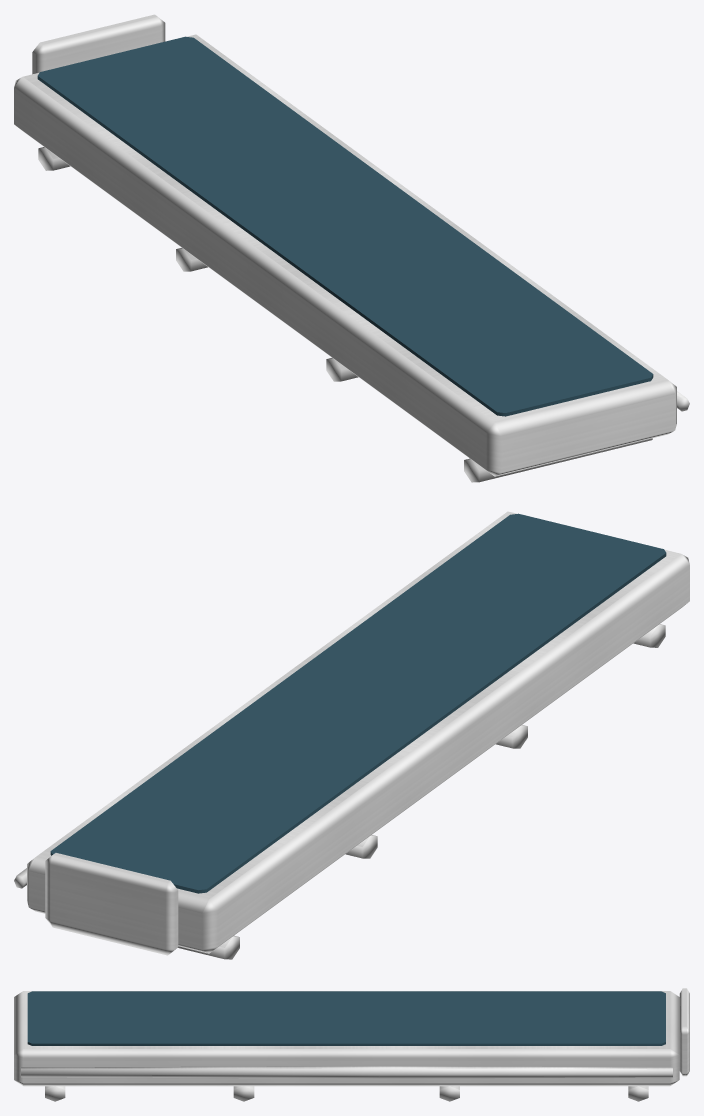
File: hydroponics.obj
3 renders of one model, top to bottom at view 1: azimuth 30°, elevation 25°; view 2: azimuth 150°, elevation 25°; view 3: azimuth 270°, elevation 25°, orthographic. The views are drawn at different scales.
Visible parts, largest first — view 1: flat_planting_water, basin_shell, rear_control_block, basin_support_1; view 2: flat_planting_water, basin_shell, rear_control_block; view 3: flat_planting_water, basin_shell, irrigation_side_rail, rear_control_block, basin_support_2, basin_support_1, basin_support_3, basin_support_4.
Part boxes in pixels (bbox=[...]): flat_planting_water: bbox=[37, 36, 653, 416]; basin_shell: bbox=[14, 34, 676, 476]; rear_control_block: bbox=[32, 14, 165, 74]; basin_support_1: bbox=[464, 438, 652, 482]; flat_planting_water: bbox=[50, 513, 666, 893]; basin_shell: bbox=[27, 511, 689, 953]; rear_control_block: bbox=[45, 853, 178, 955]; flat_planting_water: bbox=[27, 991, 665, 1045]; basin_shell: bbox=[14, 991, 679, 1086]; irrigation_side_rail: bbox=[21, 1066, 672, 1078]; rear_control_block: bbox=[679, 988, 689, 1076]; basin_support_2: bbox=[233, 1086, 254, 1101]; basin_support_1: bbox=[45, 1086, 65, 1101]; basin_support_3: bbox=[439, 1086, 459, 1101]; basin_support_4: bbox=[628, 1086, 648, 1101].
Bounding box in the file's own units: 0.9383 × 0.42 × 3.94.
